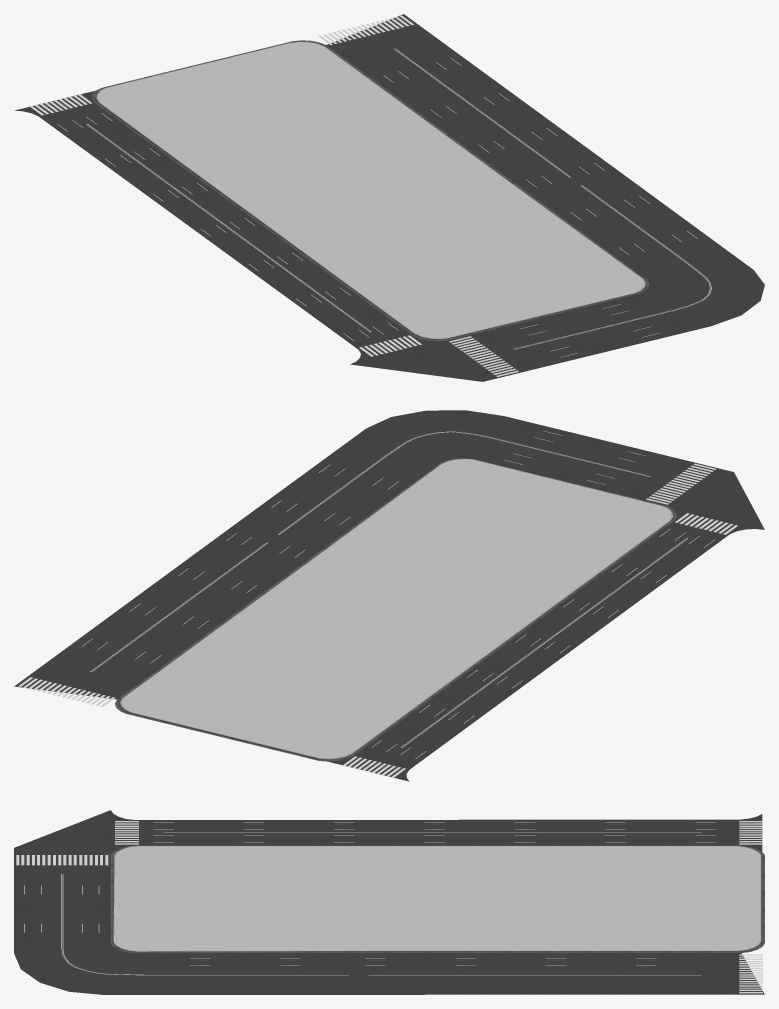
The model's file is Island_Area_06.fbx.
3 views of the same model, one above another, from view 1: azimuth 30°, elevation 25°; view 2: azimuth 150°, elevation 25°; view 3: azimuth 270°, elevation 25° (orthographic). The views are drawn at different scales.
Parts seen in each view (by area): view 1: Island_Area_06, Terrain_NY_Asphalt.031, Terrain_NY_Asphalt.028, Terrain_NY_Marking.027, Terrain_NY_Marking.033, Terrain_NY_Marking.034; view 2: Island_Area_06, Terrain_NY_Asphalt.031, Terrain_NY_Asphalt.028, Terrain_NY_Marking.027, Terrain_NY_Marking.033, Terrain_NY_Marking.034; view 3: Island_Area_06, Terrain_NY_Asphalt.031, Terrain_NY_Asphalt.028, Terrain_NY_Marking.027, Terrain_NY_Marking.033, Terrain_NY_Marking.034.
Boxes of the visible parts, box(x1,y1,x2,y2) form: Island_Area_06: box(92, 40, 648, 341); Terrain_NY_Asphalt.031: box(326, 14, 764, 381); Terrain_NY_Asphalt.028: box(14, 90, 436, 361); Terrain_NY_Marking.027: box(29, 94, 421, 356); Terrain_NY_Marking.033: box(318, 15, 697, 263); Terrain_NY_Marking.034: box(449, 263, 711, 376); Island_Area_06: box(115, 458, 676, 761); Terrain_NY_Asphalt.031: box(14, 410, 764, 699); Terrain_NY_Asphalt.028: box(328, 509, 754, 781); Terrain_NY_Marking.027: box(342, 513, 737, 777); Terrain_NY_Marking.033: box(18, 455, 398, 706); Terrain_NY_Marking.034: box(385, 431, 716, 504); Island_Area_06: box(110, 845, 764, 953); Terrain_NY_Asphalt.031: box(14, 810, 764, 994); Terrain_NY_Asphalt.028: box(113, 814, 762, 851); Terrain_NY_Marking.027: box(115, 821, 762, 844); Terrain_NY_Marking.033: box(147, 954, 762, 993); Terrain_NY_Marking.034: box(16, 855, 146, 975).
Size of the model in its own units: 7446 by 17.74 by 12789.
